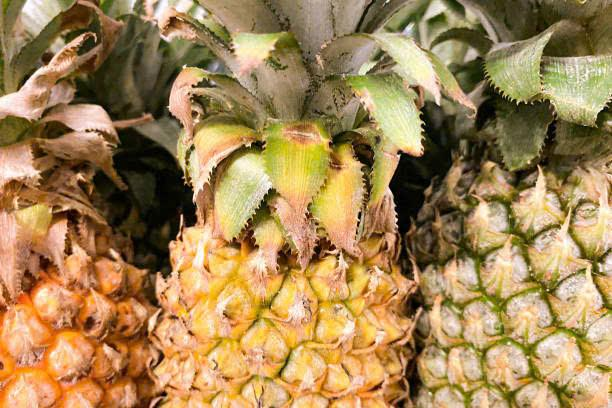pineapple: (158, 12, 420, 408), (424, 10, 612, 407), (4, 17, 150, 407)
